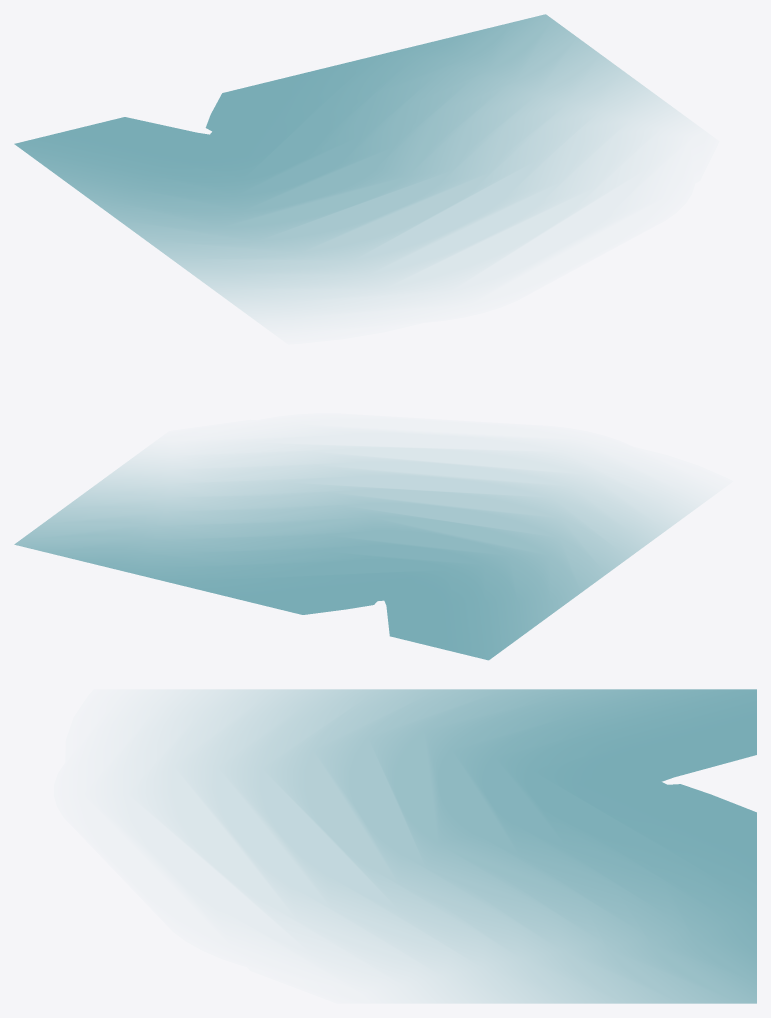
3 renders of one model, top to bottom at view 1: azimuth 30°, elevation 25°; view 2: azimuth 150°, elevation 25°; view 3: azimuth 270°, elevation 25°, orthographic. The views are drawn at different scales.
Visible parts, largest first — view 1: city; view 2: city; view 3: city.
Boxes of the visible parts, box(x1,y1,x2,y2) form: city: box(14, 14, 678, 315); city: box(14, 444, 696, 660); city: box(142, 689, 756, 1003).
Bounding box in the file's own units: 500 × 0 × 500.
